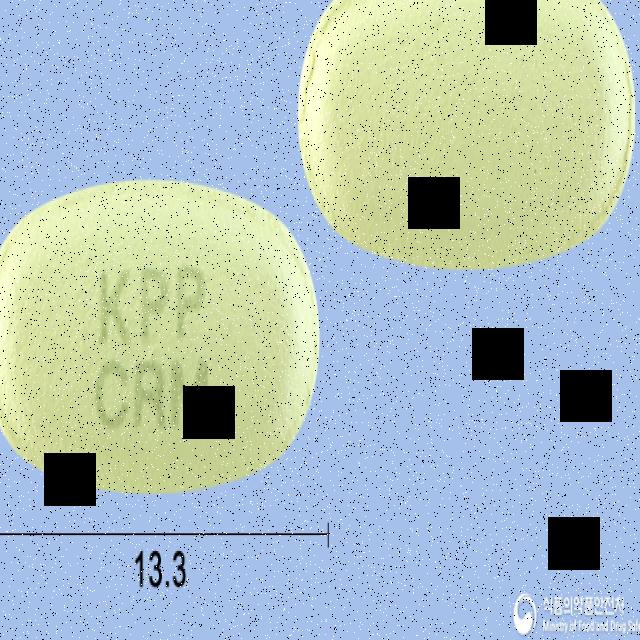Crema: (0, 180, 320, 490)
